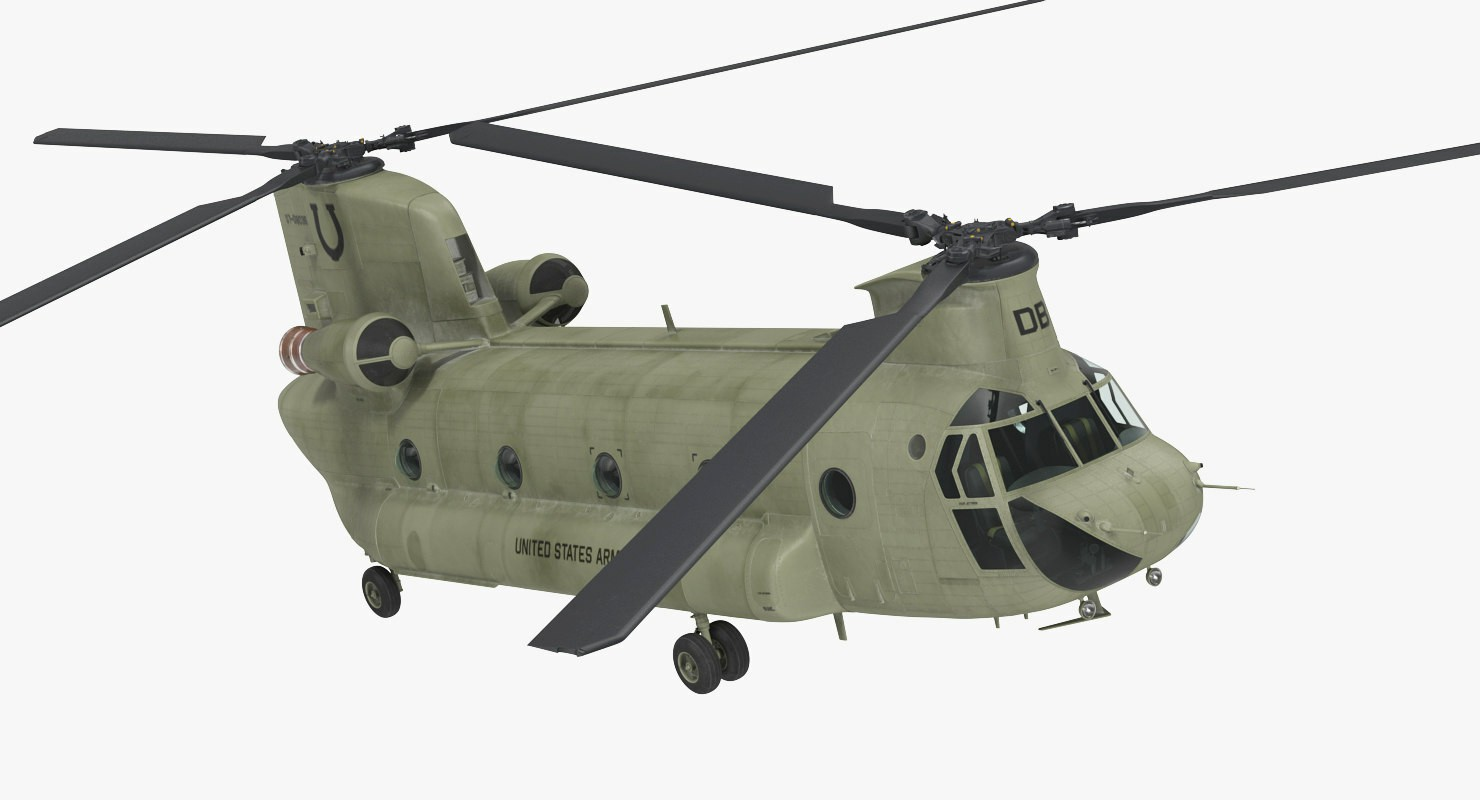chinook: (30, 49, 1445, 709)
